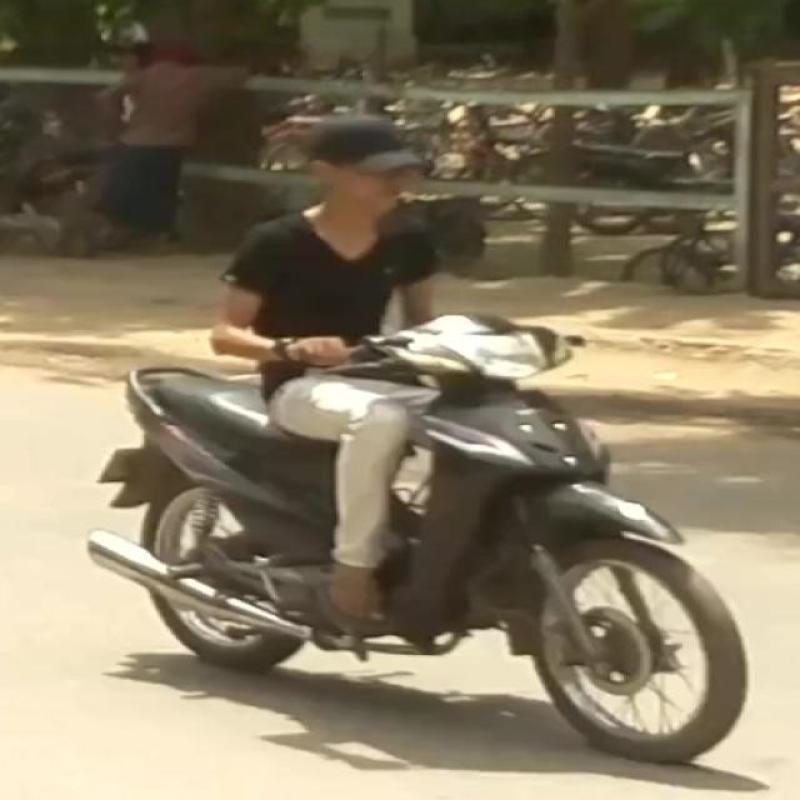nohelmet: (245, 76, 456, 222)
